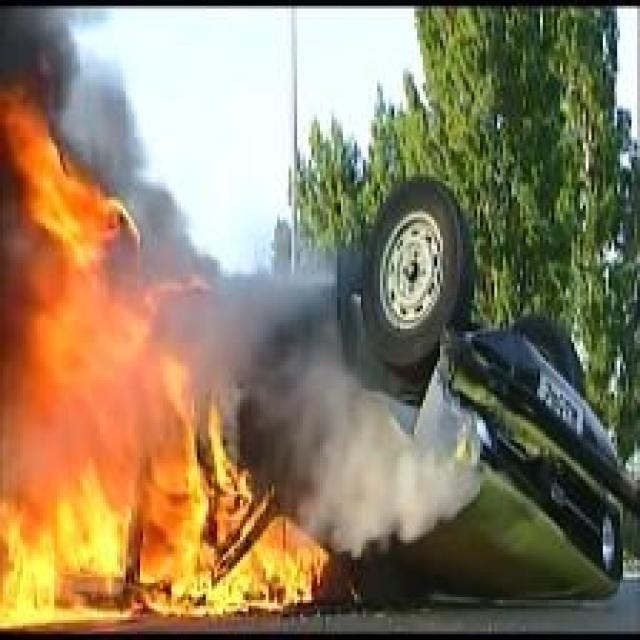Fire: (0, 80, 331, 628)
